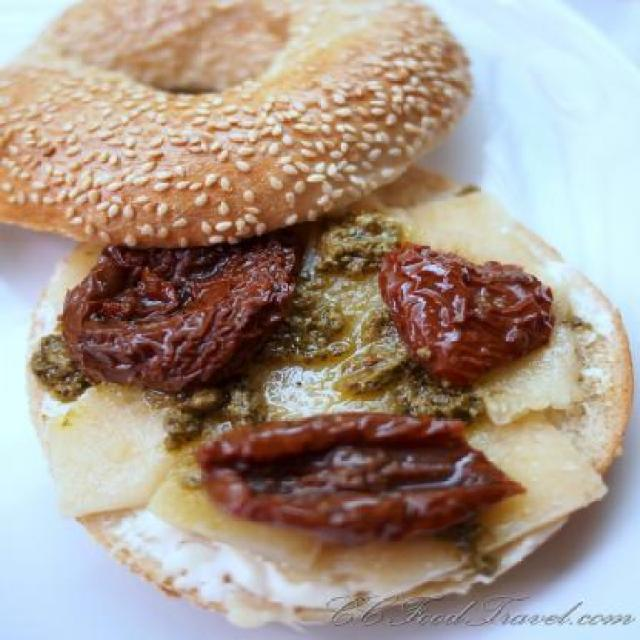Bagel: (31, 166, 634, 628), (3, 2, 480, 264)
